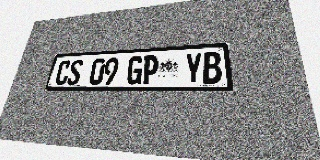0: (88, 58, 106, 85)
9: (102, 57, 120, 85)
B: (203, 52, 222, 84)
C: (54, 60, 72, 85)
G: (126, 56, 144, 85)
P: (141, 55, 159, 84)
S: (66, 59, 84, 85)
Y: (185, 53, 202, 84)
